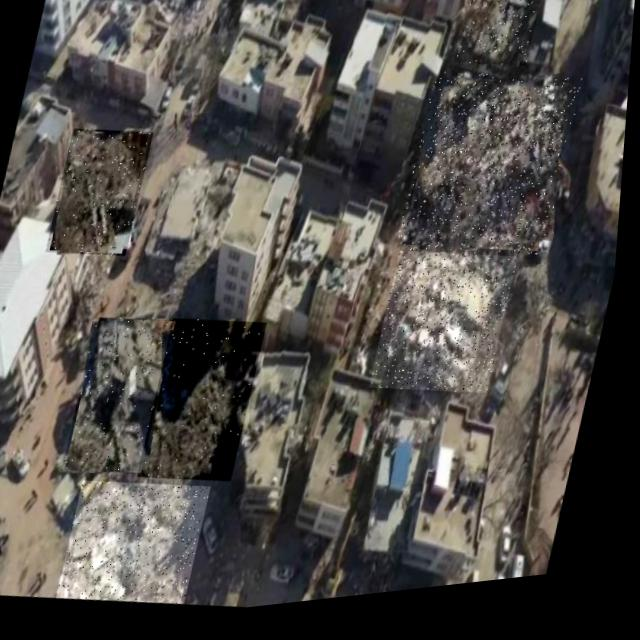Rubble: (398, 70, 587, 283), (374, 251, 524, 416), (144, 315, 274, 496), (64, 472, 220, 621), (68, 312, 185, 486), (49, 124, 156, 266), (455, 0, 549, 85)
